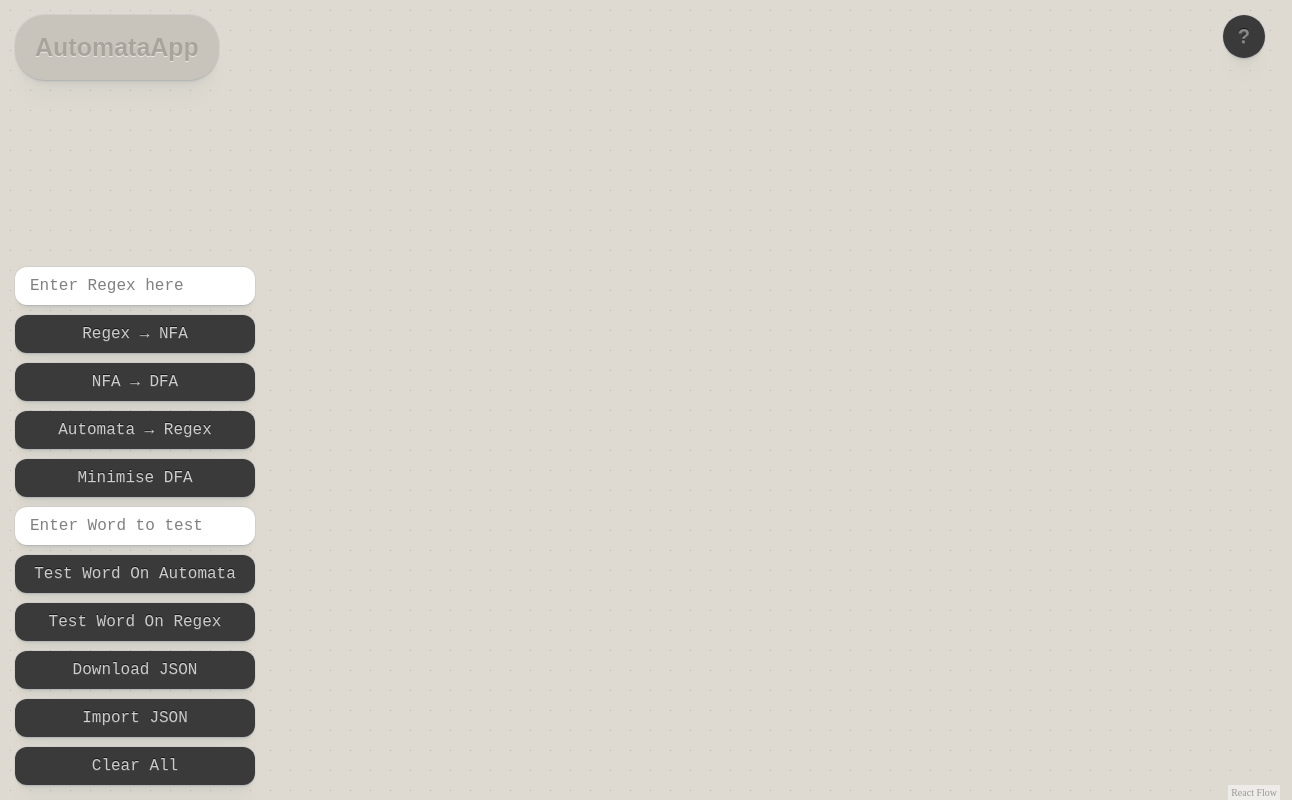
Test case: End-to-End testing: › correctlyClosesHelpPanel
The image size is (1292, 800).
Step 1. Click the button "?" → (1244,37), box [1223,15,1265,58]
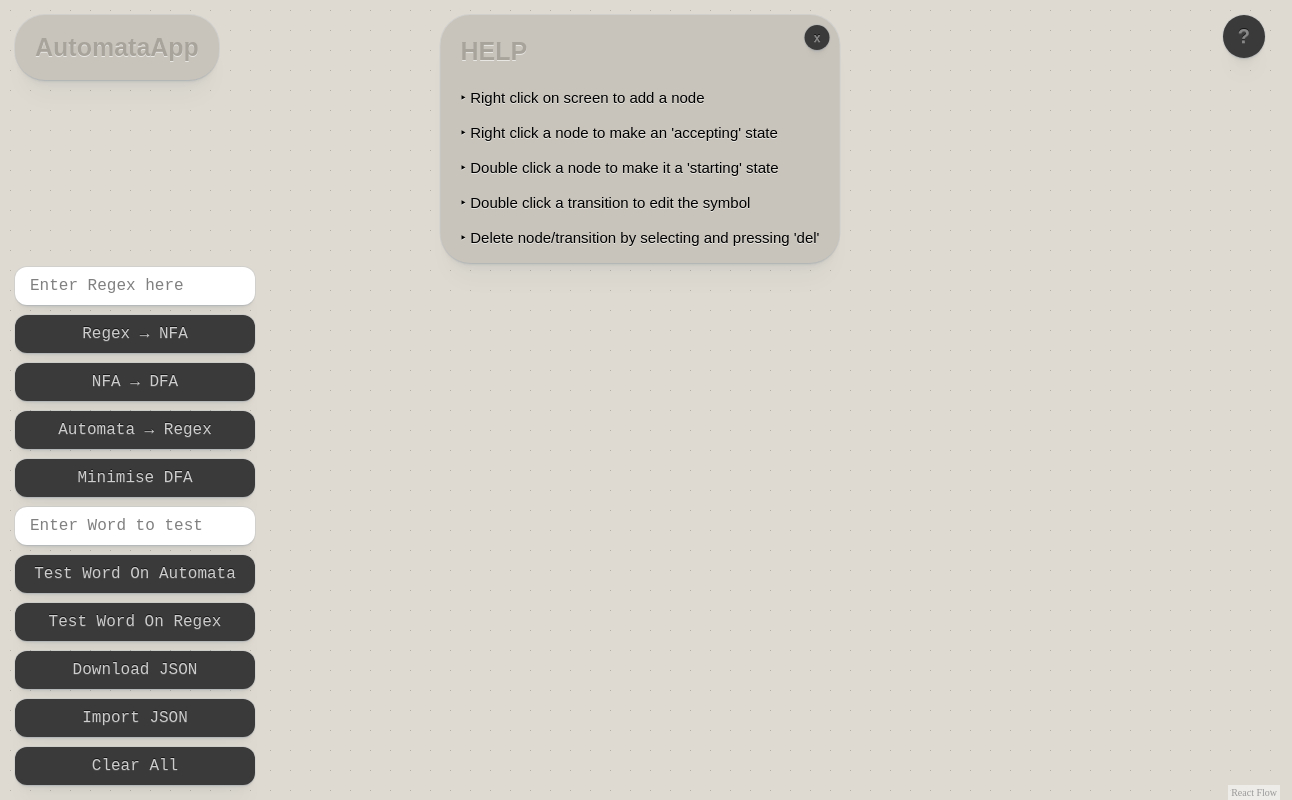
Step 2. Click the button "x" → (818,38), box [805,25,830,50]
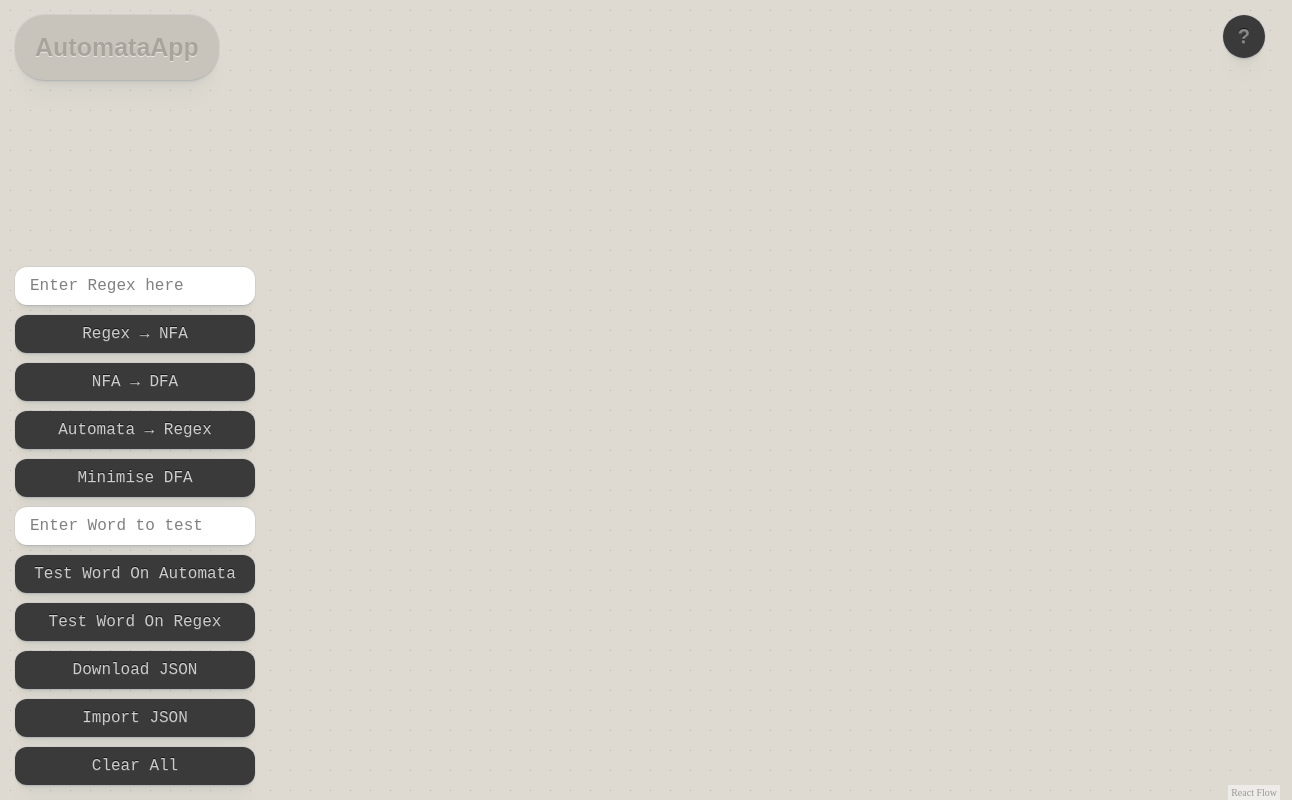
Now the element with class "help-menu" is gone
